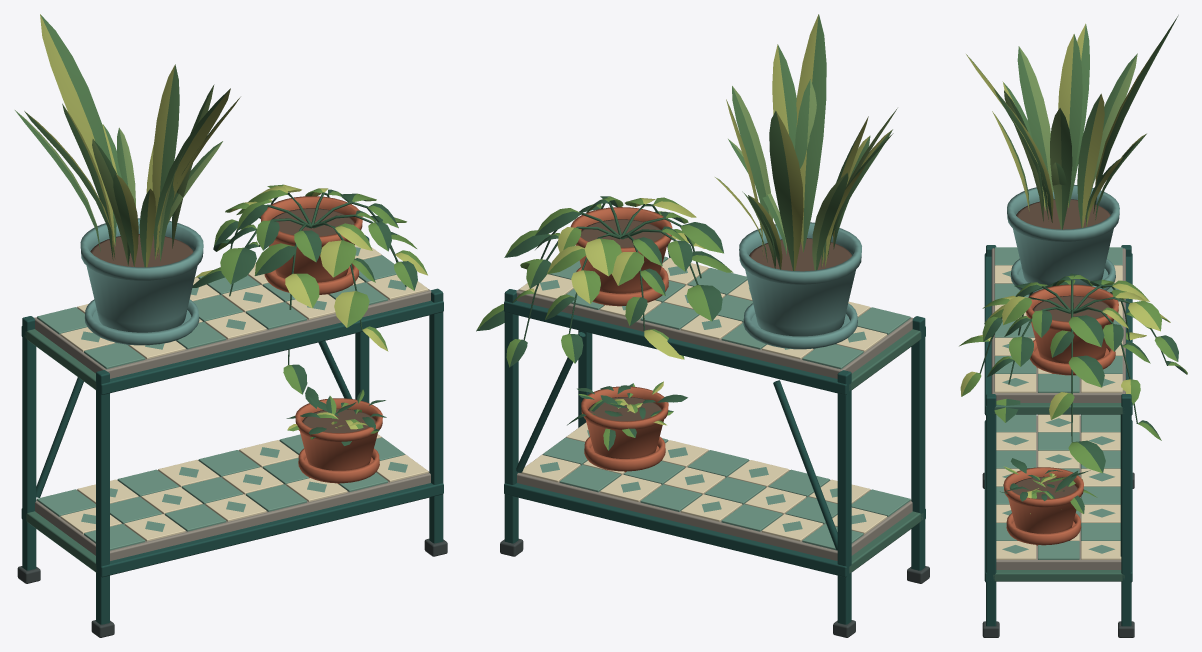
3 views of the same model, side by side, from view 1: azimuth 30°, elevation 25°; view 2: azimuth 150°, elevation 25°; view 3: azimuth 270°, elevation 25° (orthographic). The views are drawn at different scales.
Parts seen in each view (by area): view 1: Tiled Shelves, Steel Frame, Pots and Saucers, Snake Plant, Trailing Pothos; view 2: Tiled Shelves, Steel Frame, Pots and Saucers, Snake Plant, Trailing Pothos; view 3: Tiled Shelves, Pots and Saucers, Snake Plant, Trailing Pothos, Steel Frame.
Boxes of the visible parts, bbox=[...] form: Tiled Shelves: bbox=[34, 245, 431, 560]; Steel Frame: bbox=[17, 235, 447, 637]; Pots and Saucers: bbox=[80, 196, 382, 483]; Snake Plant: bbox=[15, 14, 240, 267]; Trailing Pothos: bbox=[192, 184, 427, 445]; Tiled Shelves: bbox=[516, 256, 913, 560]; Steel Frame: bbox=[500, 289, 929, 637]; Pots and Saucers: bbox=[570, 207, 861, 472]; Snake Plant: bbox=[715, 14, 897, 270]; Trailing Pothos: bbox=[476, 196, 733, 450]; Tiled Shelves: bbox=[991, 247, 1125, 569]; Pots and Saucers: bbox=[1003, 184, 1119, 545]; Snake Plant: bbox=[966, 15, 1178, 229]; Trailing Pothos: bbox=[959, 273, 1187, 513]; Steel Frame: bbox=[982, 245, 1134, 637].
Size of the model in its own units: 1.14 by 1.41 by 0.6012.
